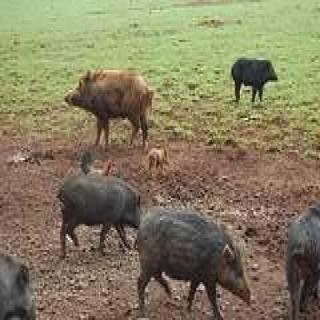Pig: (124, 195, 260, 320), (54, 72, 163, 153), (55, 169, 144, 261), (222, 50, 281, 108)
